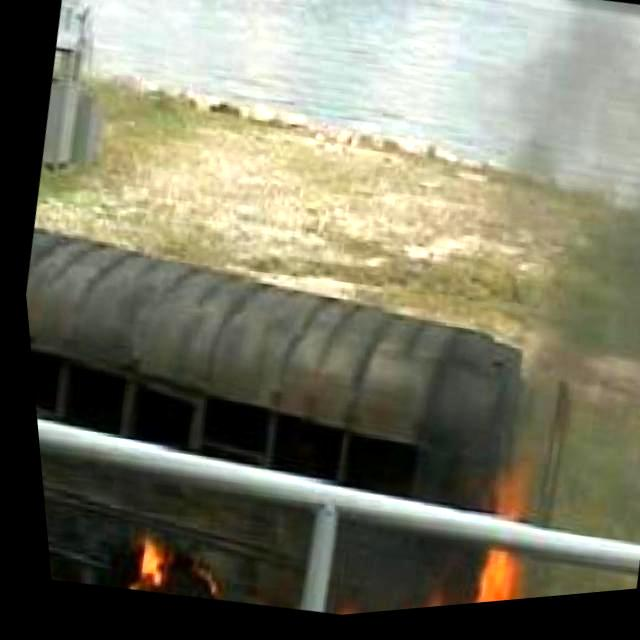fire: (339, 522, 519, 618), (60, 522, 238, 616)
